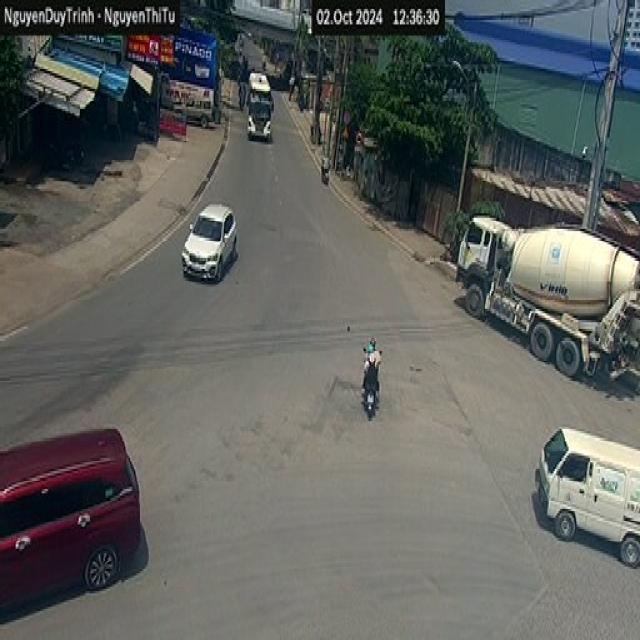bus: (247, 71, 276, 148)
car: (0, 427, 140, 622), (527, 415, 640, 585), (180, 202, 238, 282)
motorcycle: (348, 378, 390, 424), (322, 163, 331, 190)
person: (362, 333, 388, 380), (324, 145, 331, 171)
truck: (453, 209, 638, 380)
